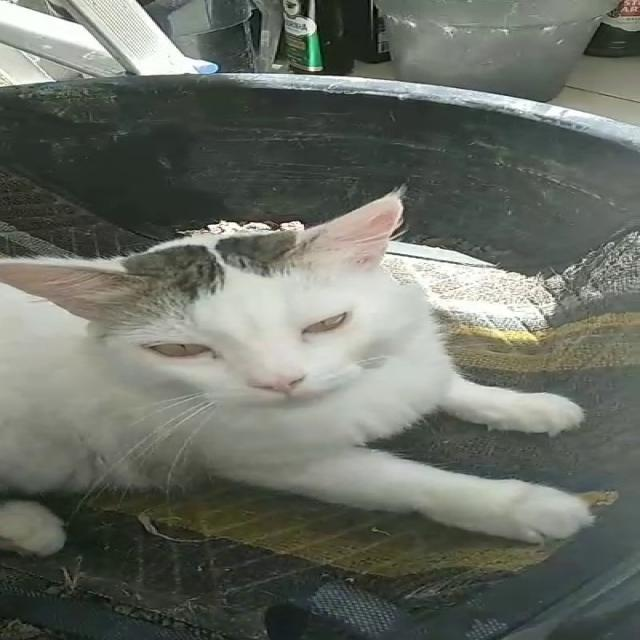Simba: (4, 189, 618, 579)
